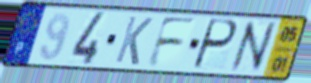4: (69, 10, 106, 67)
9: (38, 11, 73, 62)
F: (144, 15, 199, 69)
K: (112, 15, 155, 68)
N: (227, 20, 278, 75)
P: (190, 17, 240, 73)
